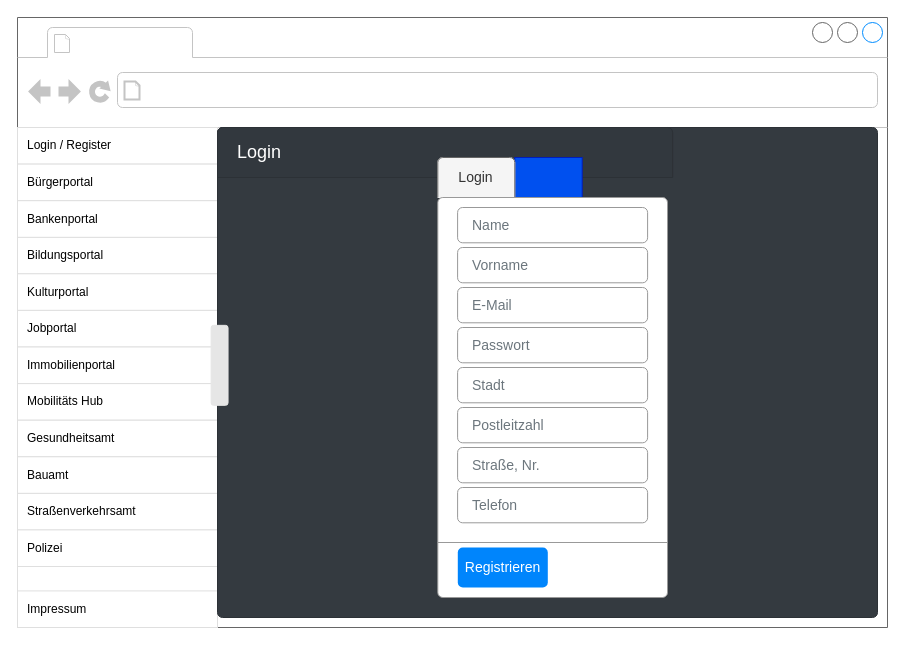
Some shapes in this 905 by 645 pixel diagram are drawn without their labels. The shapes that lost their labels are listed below. From the top down, each one's box as (x1, y1, x2, y2) in pixels, then its label:
(76, 28, 188, 56): Hub
(146, 76, 398, 104): https://www.smartcity-2022.de/login
(514, 156, 582, 198): Register
(210, 324, 228, 405): Einklappen
